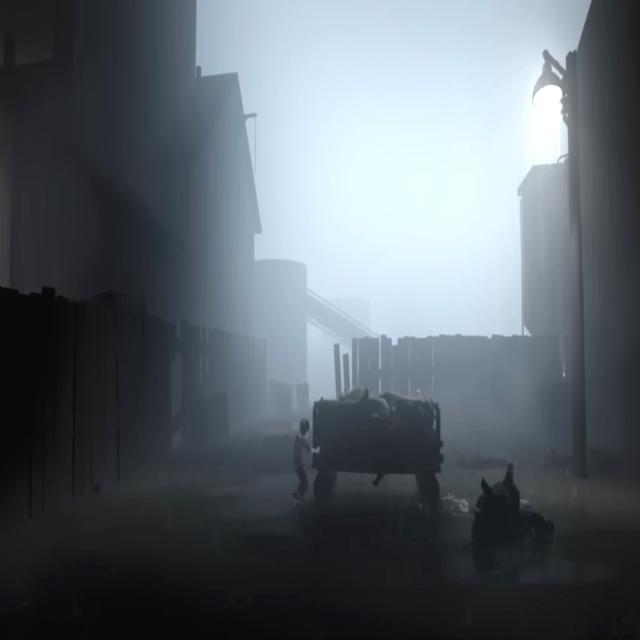boy: (291, 417, 316, 504)
